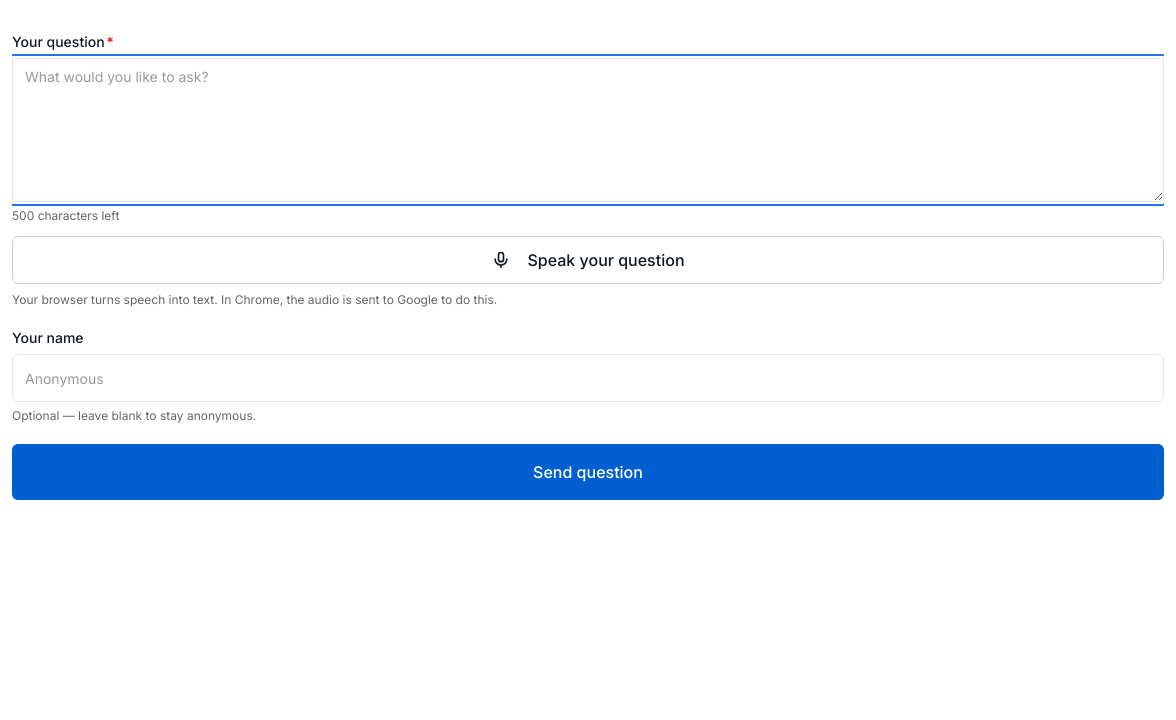
hostile and unusual input › never renders a server-supplied string as markup
The image size is (1176, 720).
Type "How do you follow up after meeting someone at an event?" into the text box labelled "Your question*" at (588, 130), box [12,58,1164,202]
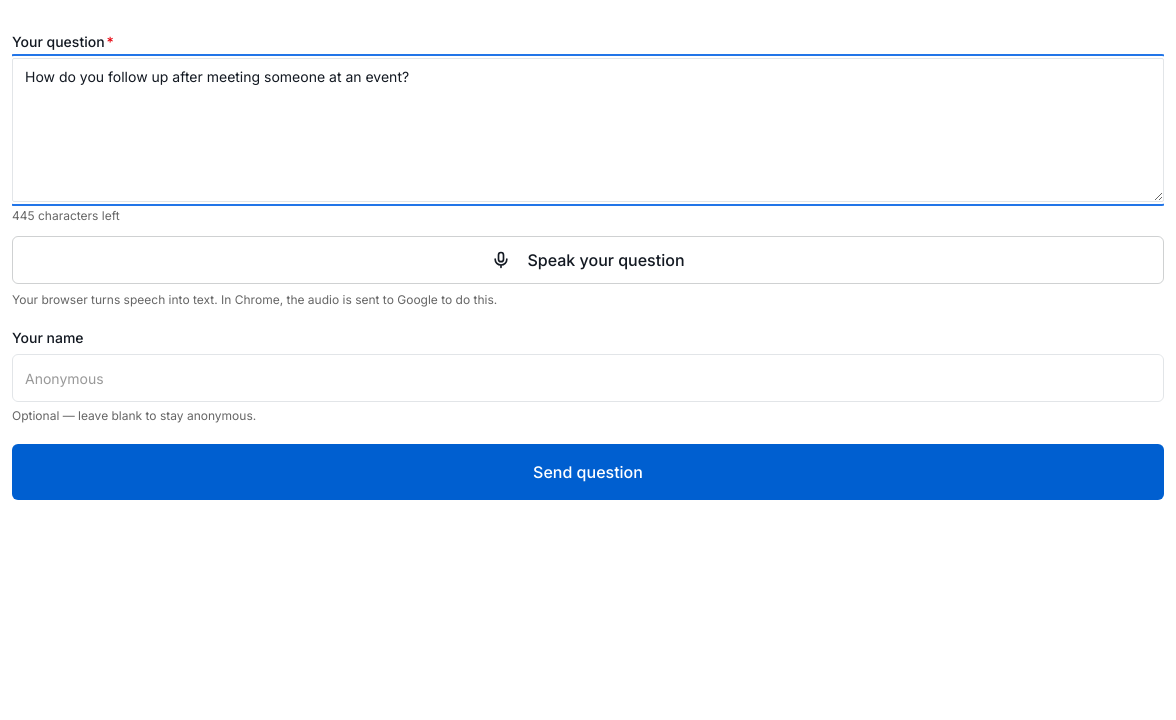
Click the button "Send question" at (588, 472), box [12,444,1164,500]
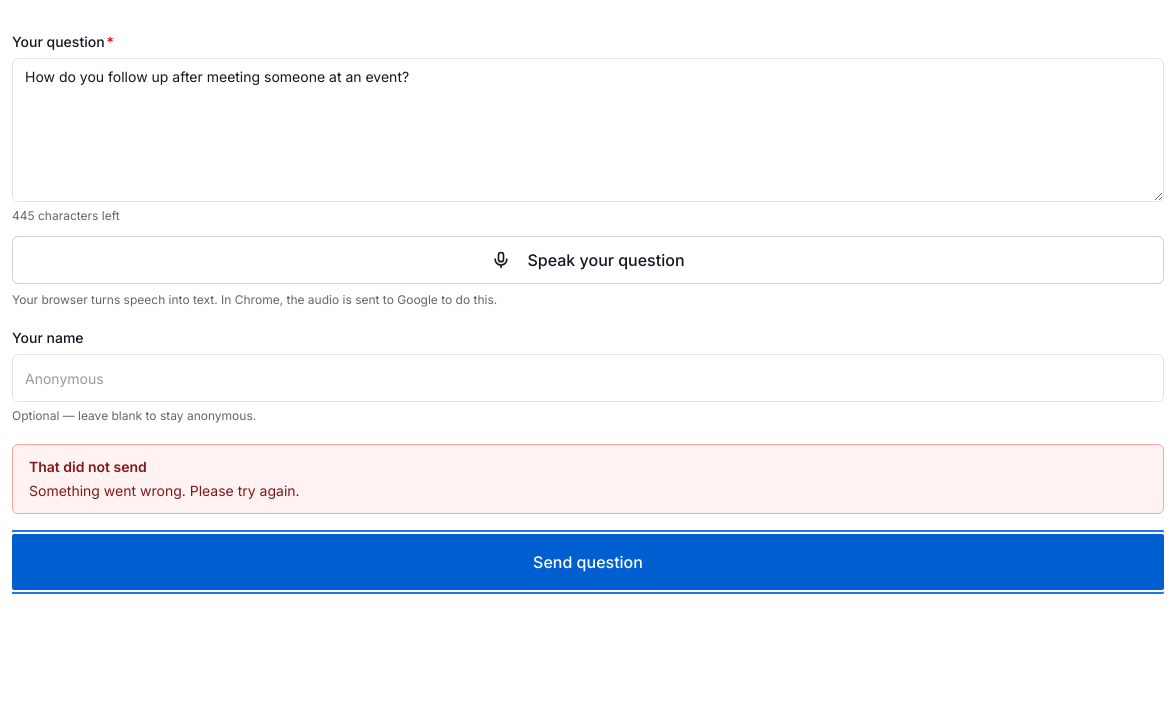
expect the text "Something went wrong. Please try again." is shown: met, box [29,482,300,499]
